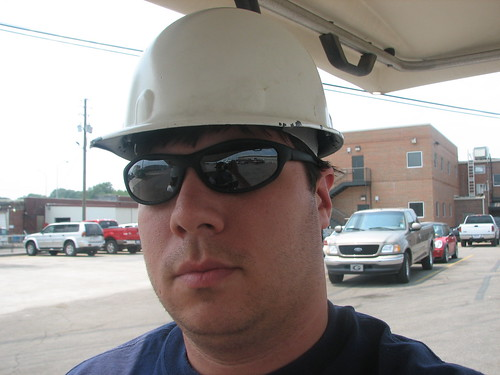person hardhat: (97, 8, 351, 373)
